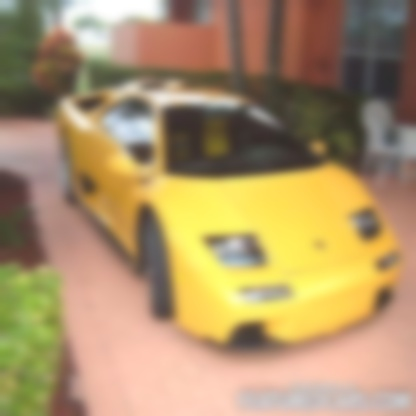Vehicle: (55, 76, 404, 357)
